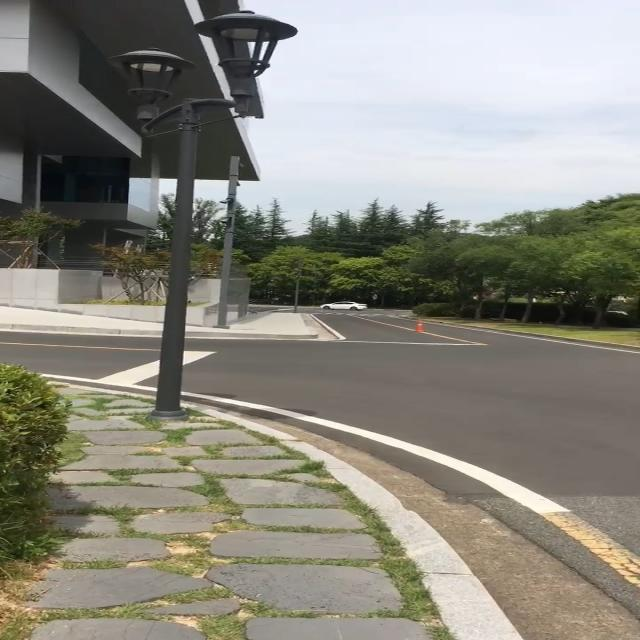obstacle: (107, 12, 285, 412), (0, 366, 67, 596), (0, 268, 164, 322), (215, 170, 249, 327), (186, 306, 204, 326)
road: (182, 311, 640, 640), (0, 334, 162, 396)
sidewalk: (0, 394, 522, 640), (186, 312, 309, 335)
